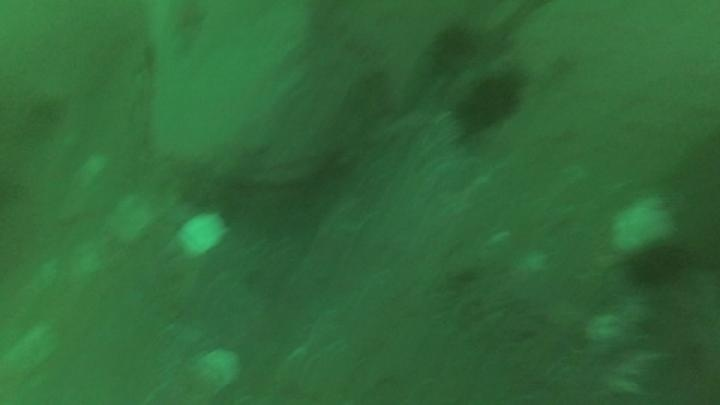echinus: (658, 128, 720, 270), (454, 70, 525, 135), (626, 241, 691, 289), (430, 23, 478, 62)
scallop: (607, 192, 678, 257), (103, 192, 158, 246), (174, 209, 230, 260), (189, 345, 243, 395)
